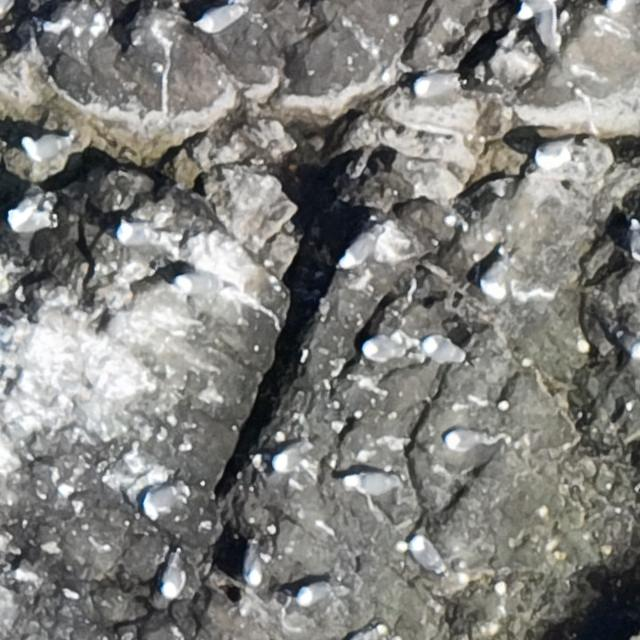F: (519, 2, 566, 53)
umineko: (7, 193, 57, 234), (172, 270, 238, 294), (144, 479, 183, 519), (338, 232, 375, 271), (480, 256, 512, 300), (114, 223, 161, 251), (272, 444, 311, 476), (362, 338, 406, 364), (198, 7, 240, 31), (424, 338, 463, 362), (348, 473, 391, 493), (245, 540, 263, 587), (417, 76, 455, 98), (410, 538, 434, 570), (27, 136, 65, 156), (160, 564, 181, 600), (296, 582, 328, 605), (536, 142, 568, 163), (445, 430, 480, 449), (617, 331, 640, 357), (344, 628, 374, 640), (630, 224, 639, 258)
